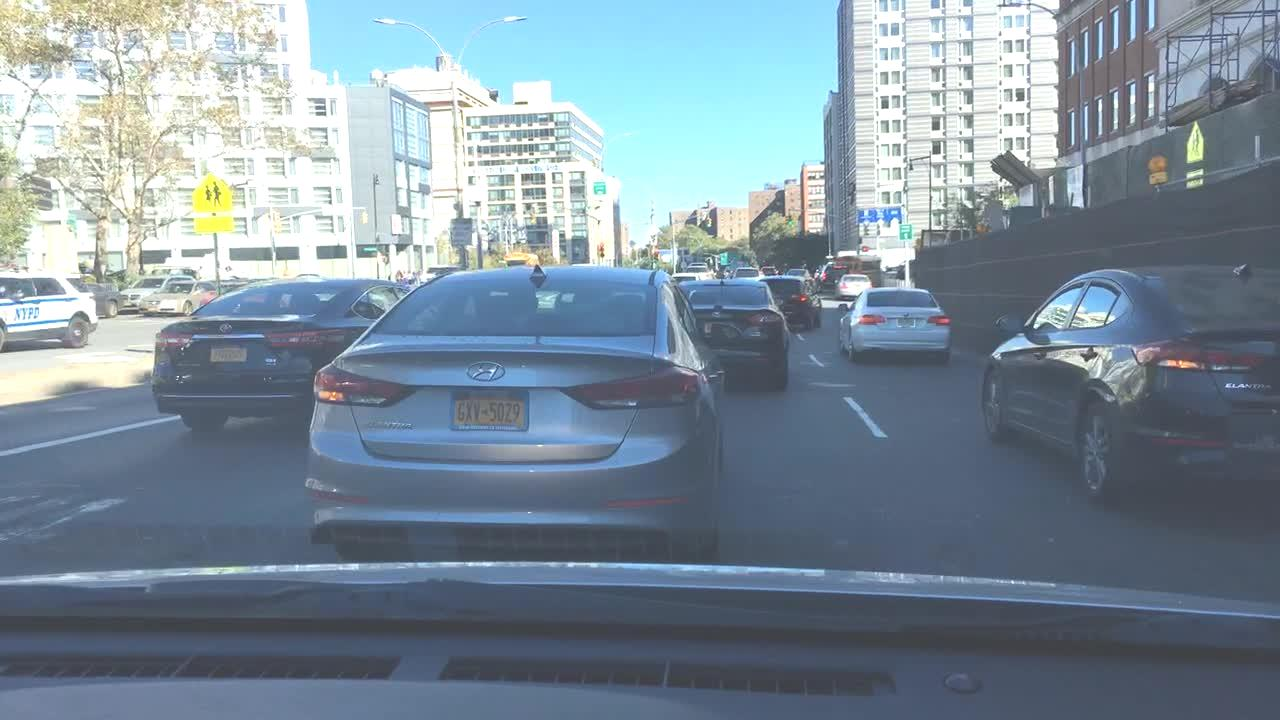Hyundai: (451, 345, 528, 391)
